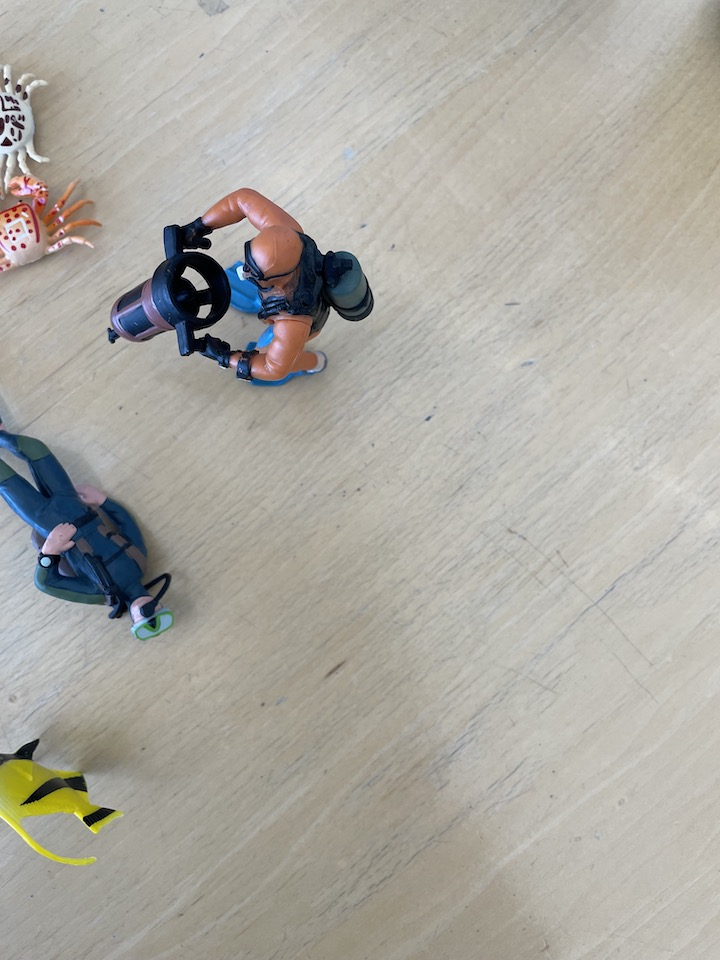crab: (1, 170, 96, 288), (1, 64, 54, 194)
danger: (1, 733, 128, 877)
diver: (100, 184, 378, 389), (1, 413, 179, 646)
